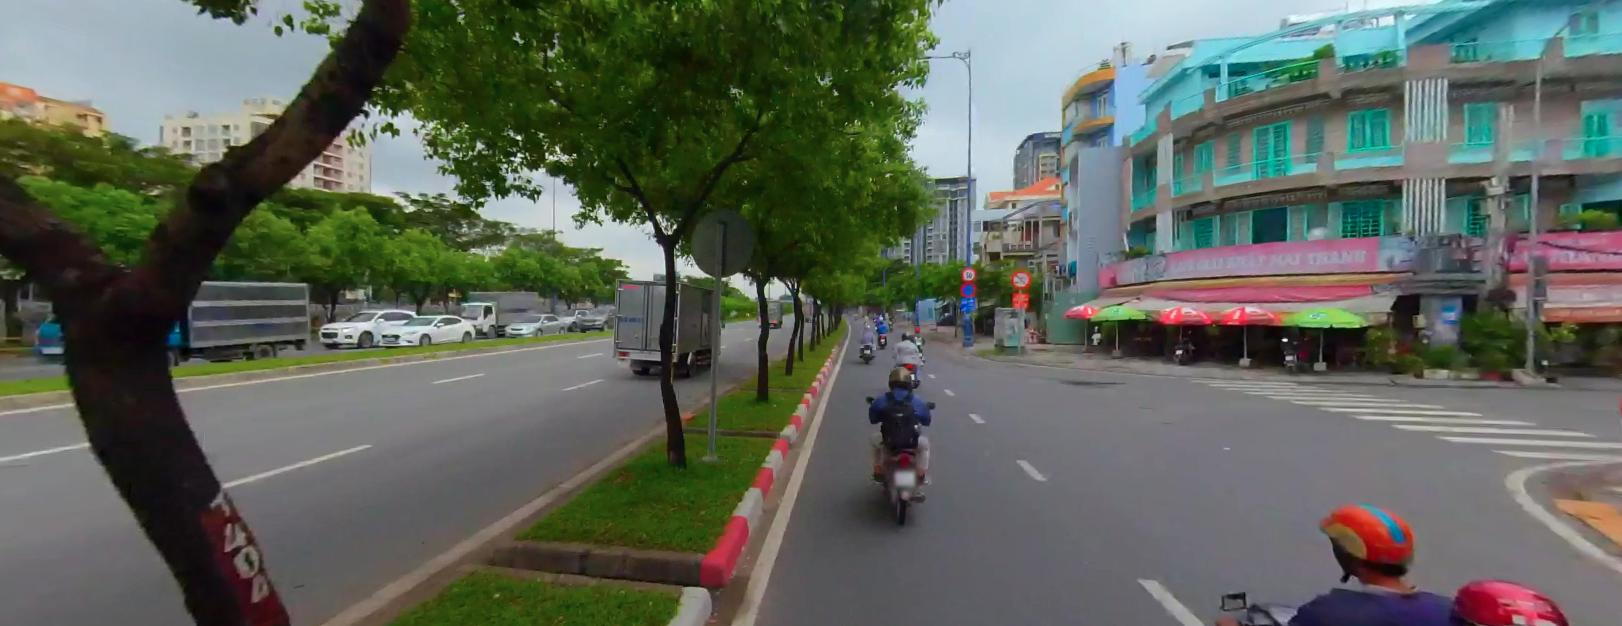Cam con lai: (1010, 268, 1031, 287)
Cam dung va do: (959, 280, 975, 295)
Gioi han toc do: (961, 265, 977, 279)
